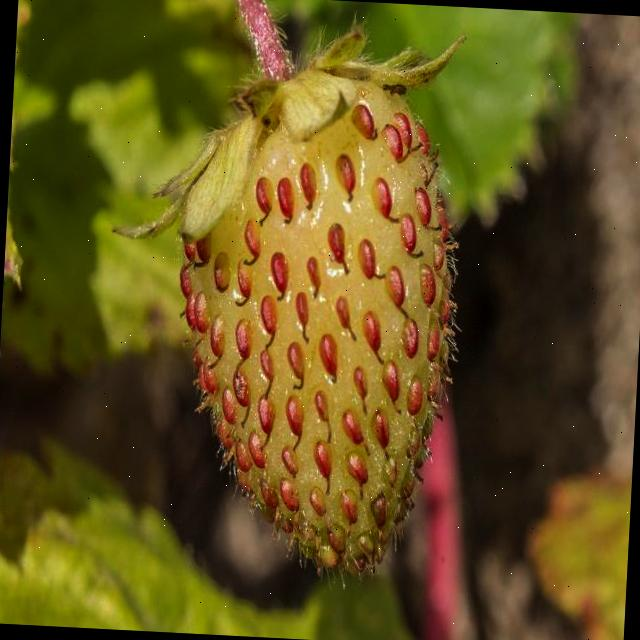strawberry: (157, 50, 466, 584)
